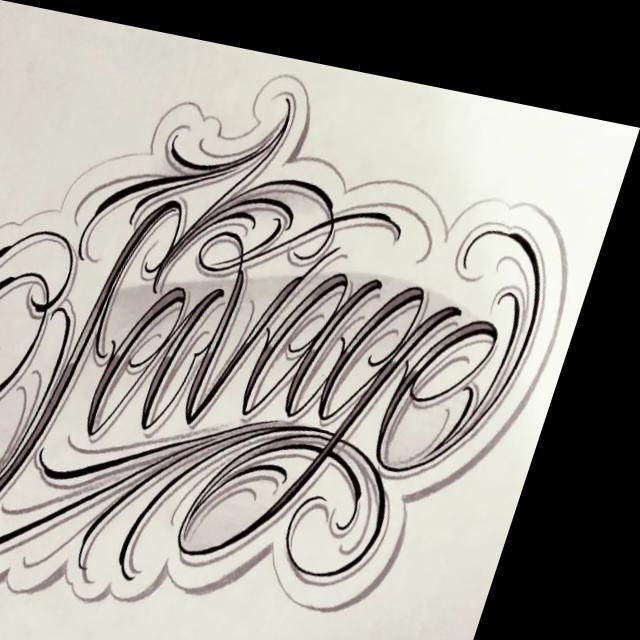nonspitting: (0, 71, 568, 612)
